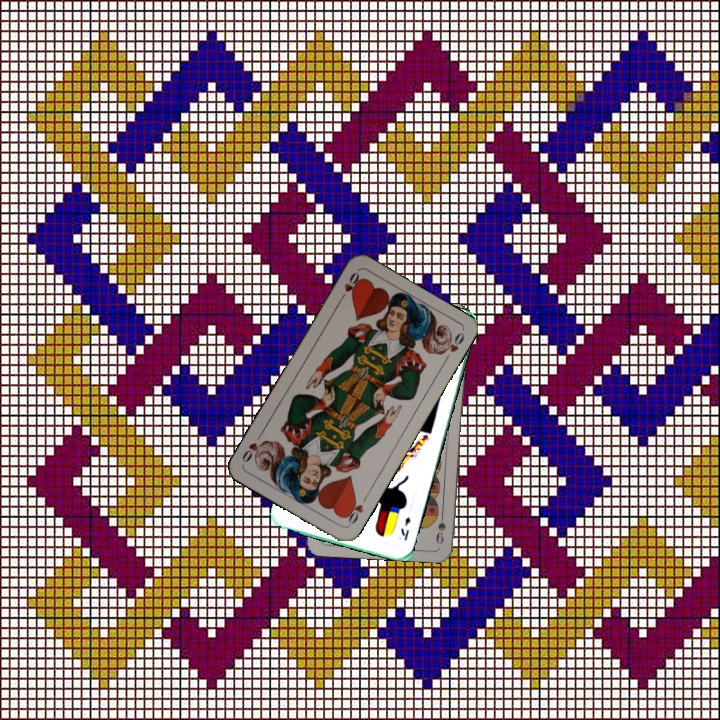EK: (396, 513, 413, 543)
HO: (341, 491, 370, 528), (335, 268, 363, 304)
S9: (432, 506, 448, 547)
